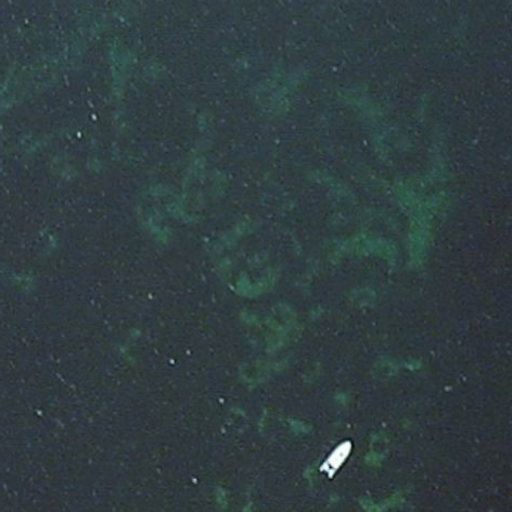ship: (315, 435, 356, 485)
